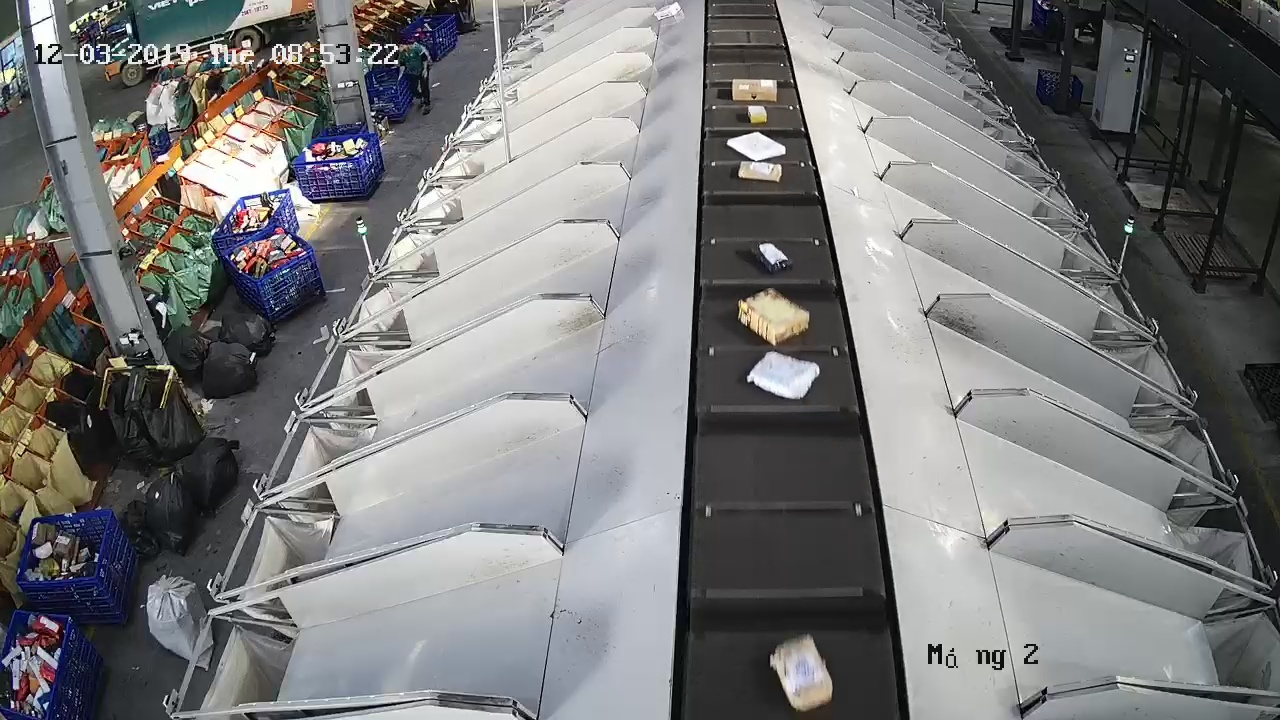parcel: (768, 630, 835, 714), (735, 286, 812, 346), (744, 349, 822, 402), (725, 130, 787, 161), (748, 239, 794, 275), (736, 160, 784, 182)
